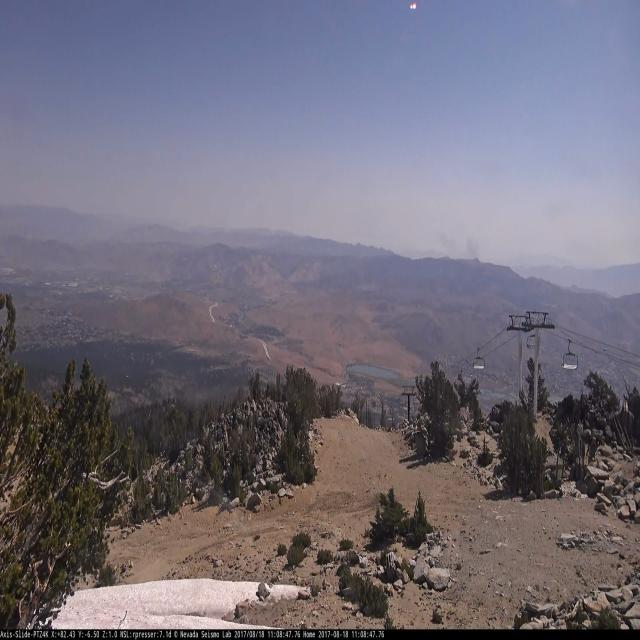smoke: (466, 230, 480, 258)
